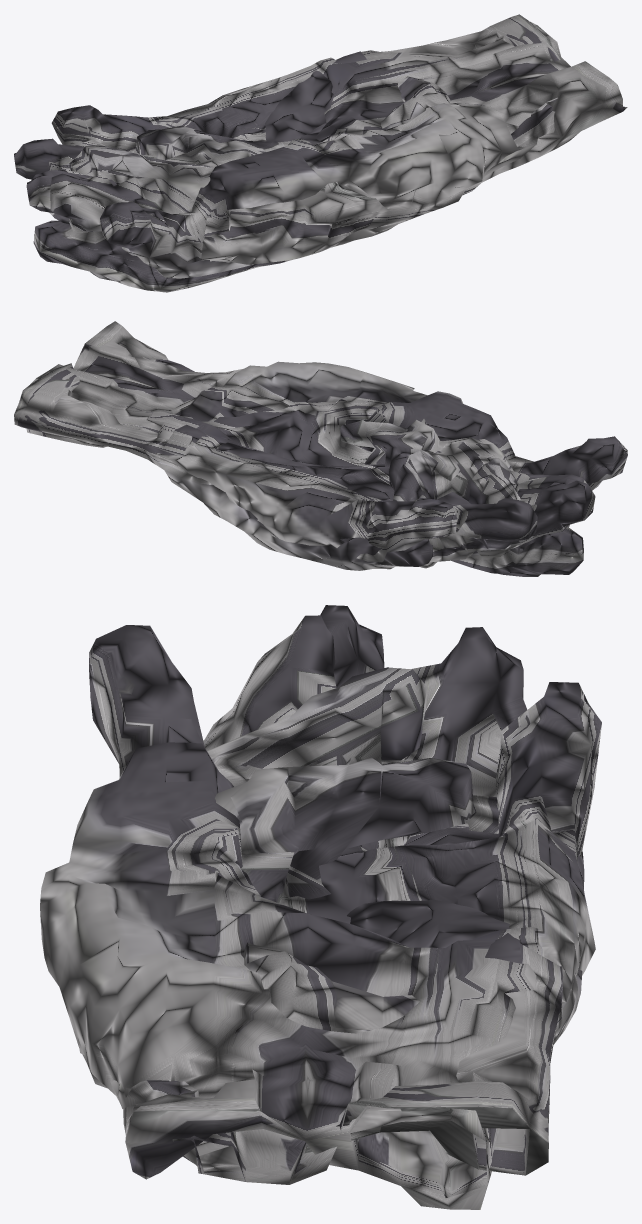
The model's file is ppe_gloves_cloth_a01.glb.
The picture shows the model from 3 angles, top to bottom: view 1: azimuth 30°, elevation 25°; view 2: azimuth 150°, elevation 25°; view 3: azimuth 270°, elevation 25°; orthographic projection. The views are drawn at different scales.
Parts seen in each view (by area): view 1: prop; view 2: prop; view 3: prop.
Boxes of the visible parts, <box> form: prop: <box>14,14,627,292</box>; prop: <box>14,321,627,576</box>; prop: <box>40,605,601,1209</box>.
Bounding box in the file's own units: 0.7877 × 0.1742 × 0.3539.
2 materials, 2 textured.
